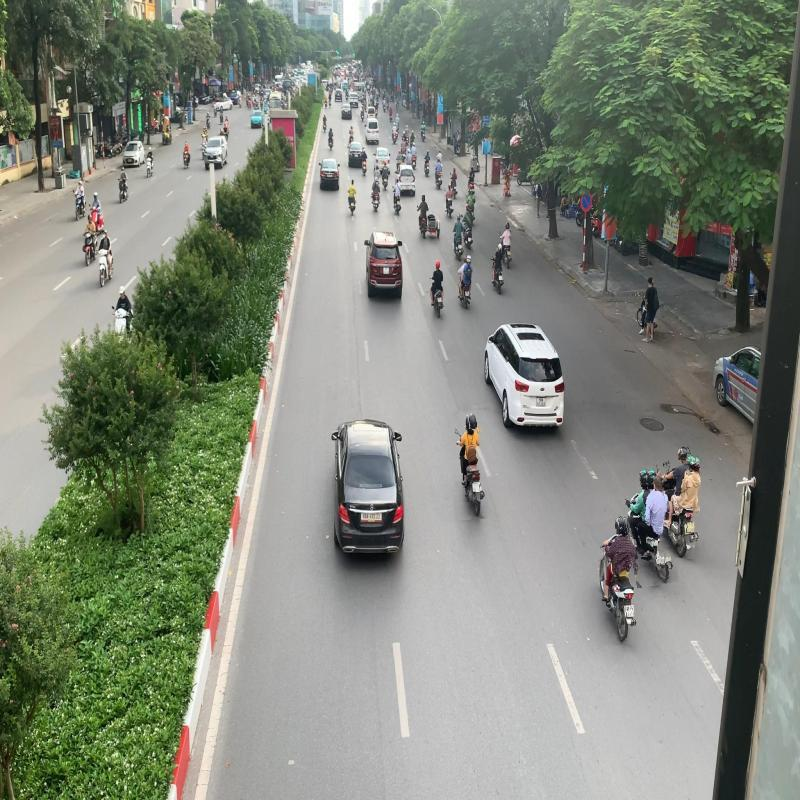helmet: (648, 469, 658, 489), (615, 516, 626, 534), (686, 454, 698, 470), (676, 446, 687, 460), (468, 414, 477, 430)
licenseplate: (655, 552, 666, 566), (686, 522, 696, 535), (625, 605, 634, 617), (472, 483, 480, 492)
motorcyclist: (621, 465, 674, 588), (596, 514, 638, 646), (660, 444, 702, 559), (453, 412, 486, 520)
nohelmet: (654, 476, 663, 491)
